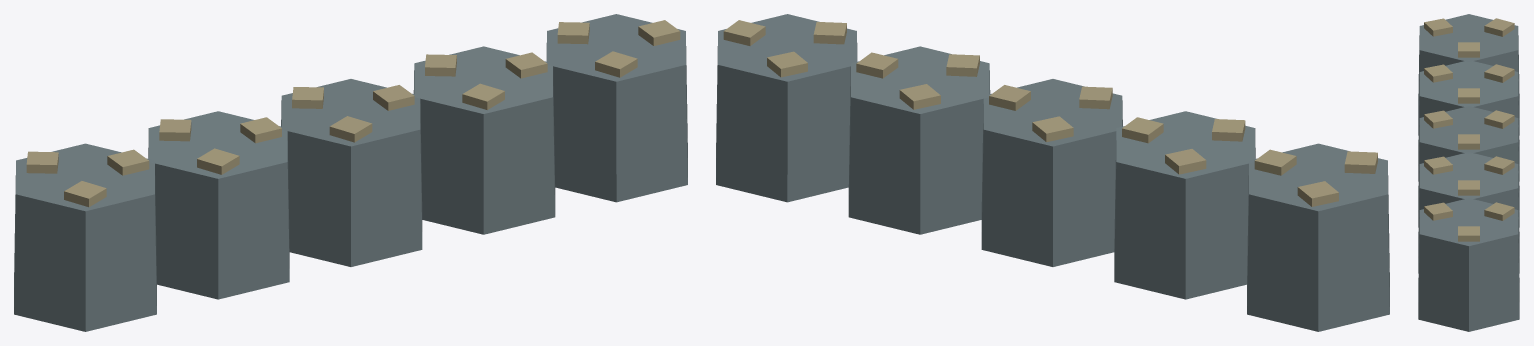
Rendered from map-exclusive-v3__iron_13.glb.
3 views of the same model, side by side, from view 1: azimuth 30°, elevation 25°; view 2: azimuth 150°, elevation 25°; view 3: azimuth 270°, elevation 25° (orthographic). The views are drawn at different scales.
Parts seen in each view (by area): view 1: iron_13; view 2: iron_13; view 3: iron_13.
Boxes of the visible parts, bbox=[...] form: iron_13: bbox=[14, 14, 687, 331]; iron_13: bbox=[716, 14, 1389, 331]; iron_13: bbox=[1418, 14, 1519, 331].
Size of the model in its own units: 3.3 by 0.6001 by 0.6063.
